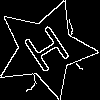H: (21, 24, 78, 82)
